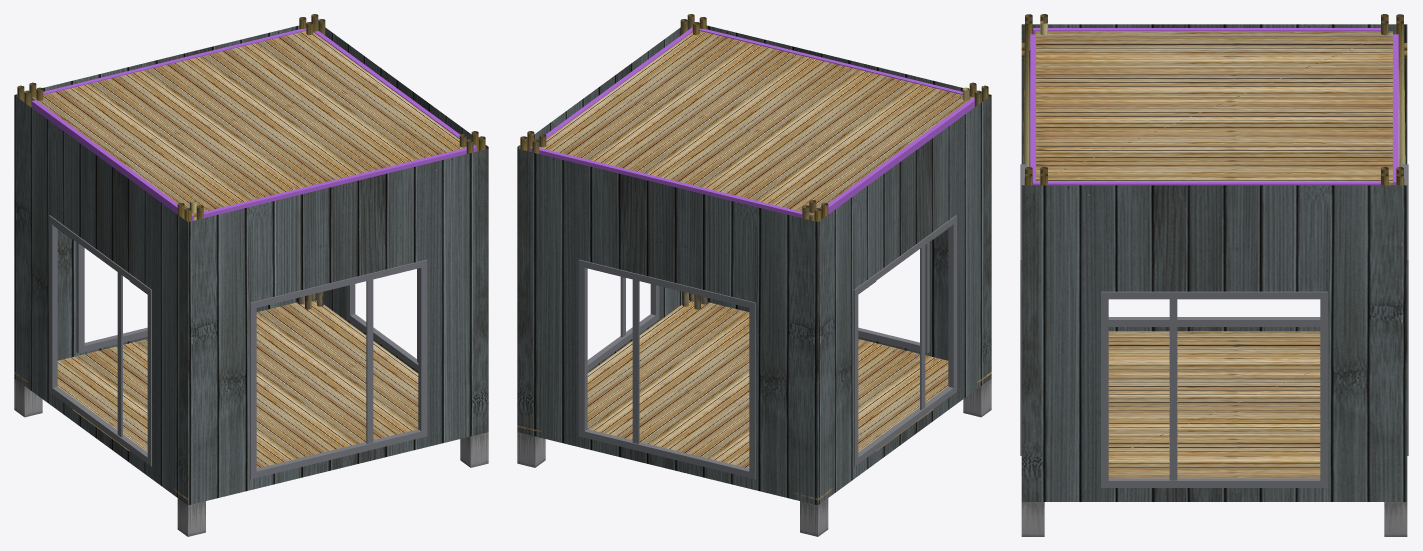
The model's file is flat-module.glb.
The picture shows the model from 3 angles, left to right: view 1: azimuth 30°, elevation 25°; view 2: azimuth 150°, elevation 25°; view 3: azimuth 270°, elevation 25°; orthographic projection. The views are drawn at different scales.
Parts seen in each view (by area): view 1: for bblneder3; view 2: for bblneder3; view 3: for bblneder3.
Part boxes in pixels (x1,y1,x2,y2): for bblneder3: (14, 14, 488, 536); for bblneder3: (517, 14, 991, 536); for bblneder3: (1020, 14, 1408, 536).
Size of the model in its own units: 5.03 by 5.15 by 5.03.
6 materials, 4 textured.
